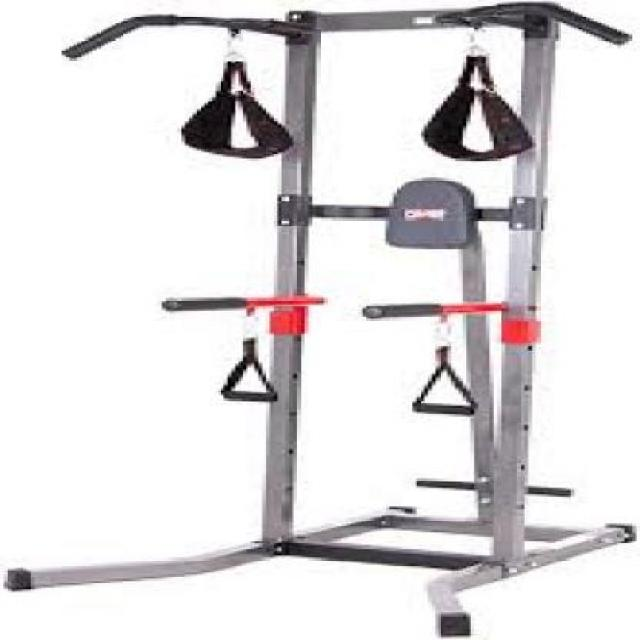chinning dipping: (14, 5, 632, 632)
